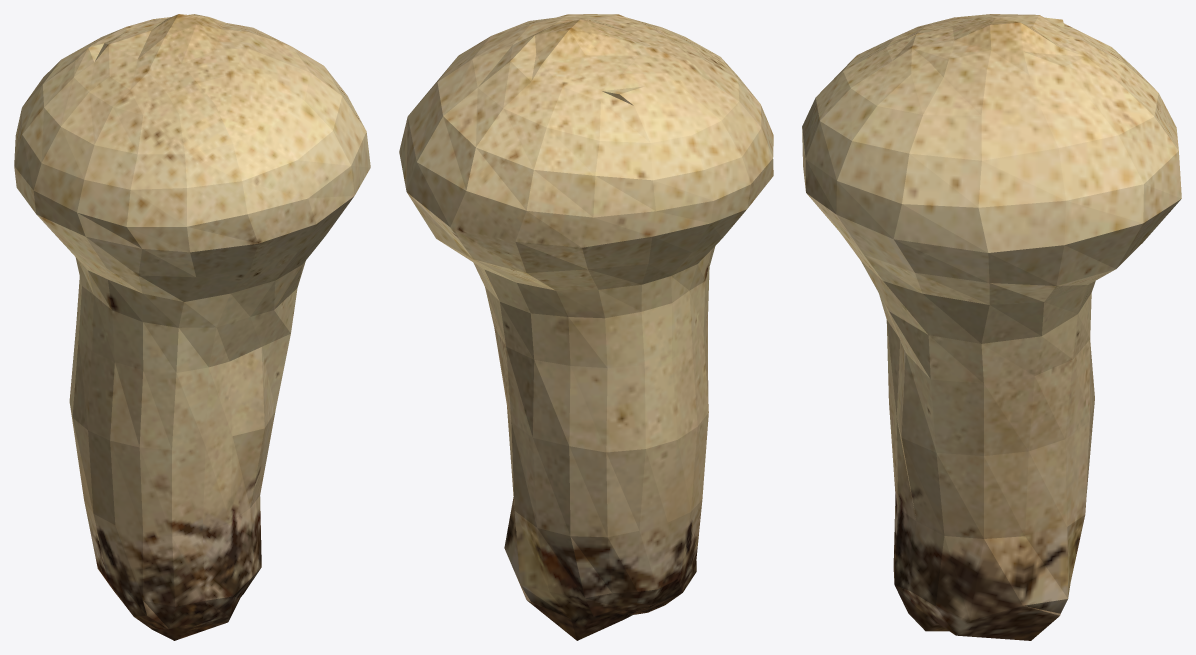
Rendered from P_Baiyugu_01.obj.
3 renders of one model, left to right at view 1: azimuth 30°, elevation 25°; view 2: azimuth 150°, elevation 25°; view 3: azimuth 270°, elevation 25°, orthographic. The views are drawn at different scales.
Size of the model in its own units: 0.1591 by 0.2833 by 0.156.
Materials: 1 (1 with a texture image).
